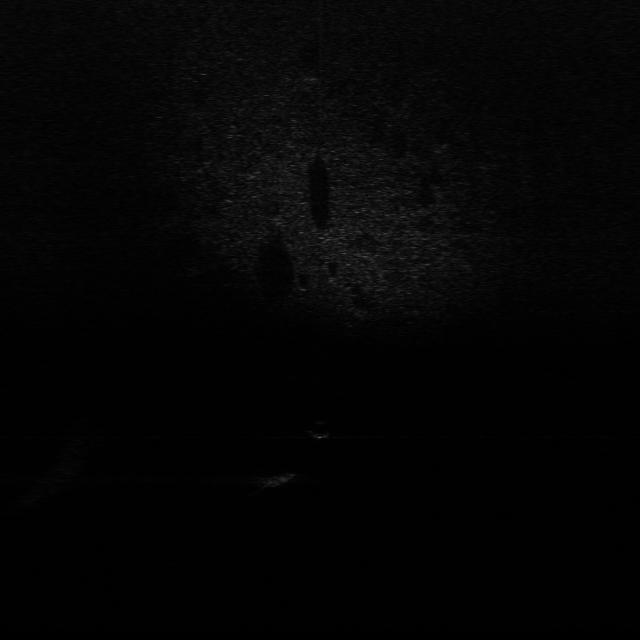ball: (307, 419, 334, 440)
circle cage: (254, 468, 300, 491)
